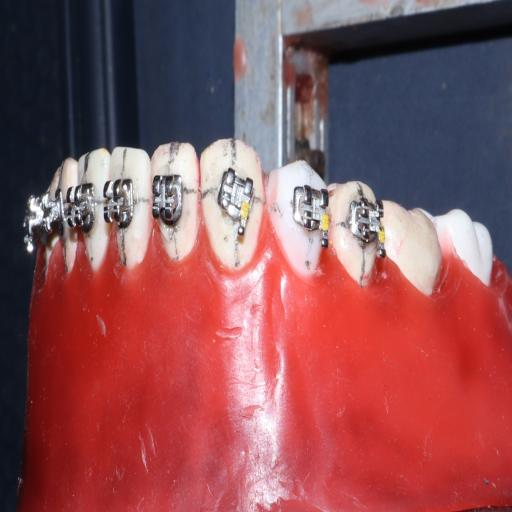incorrect_brace: (213, 164, 257, 243)
